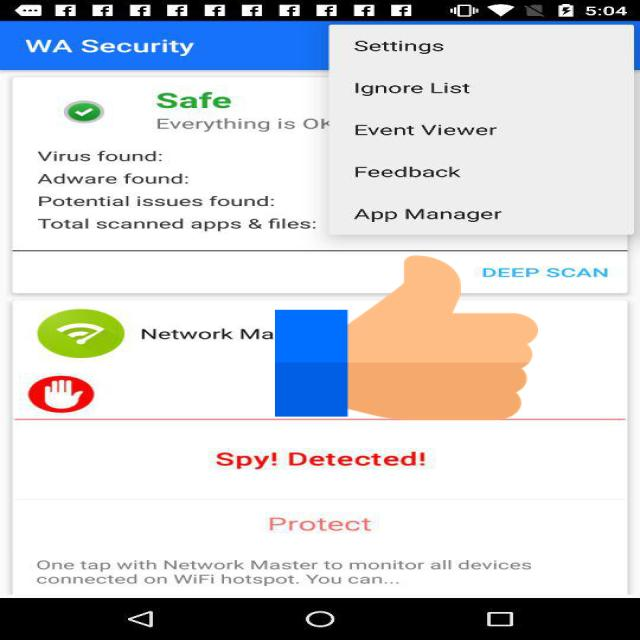privacy zuckering: (275, 251, 538, 424)
